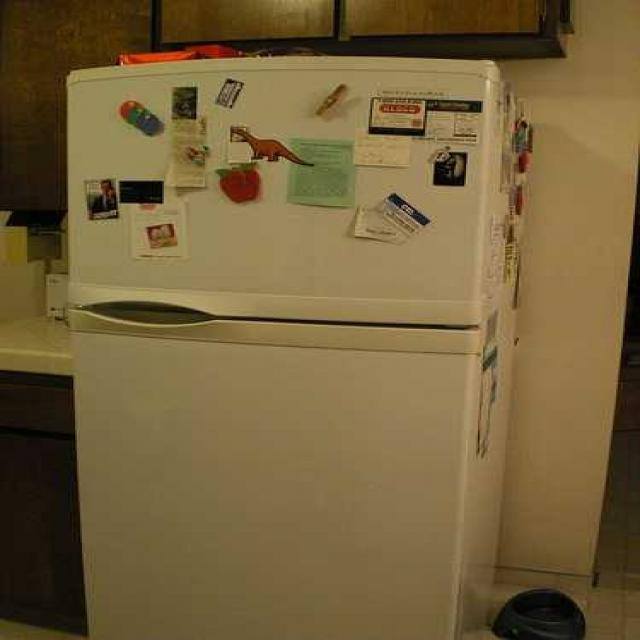refrigerator: (61, 26, 524, 636)
